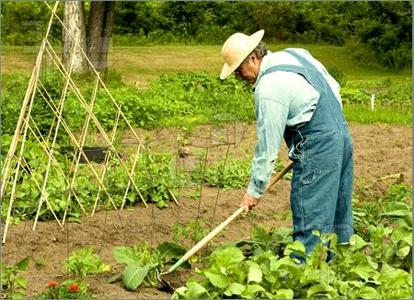person: (220, 32, 358, 264)
